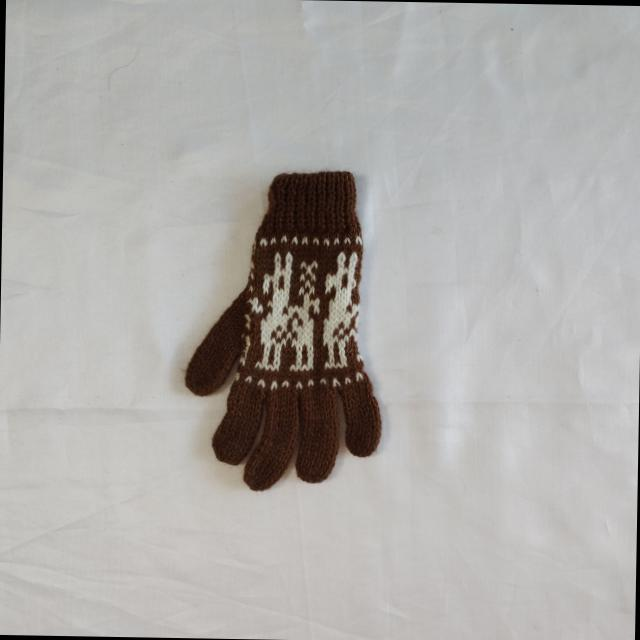Guante: (182, 166, 387, 493)
